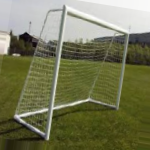goals: (14, 4, 130, 140)
